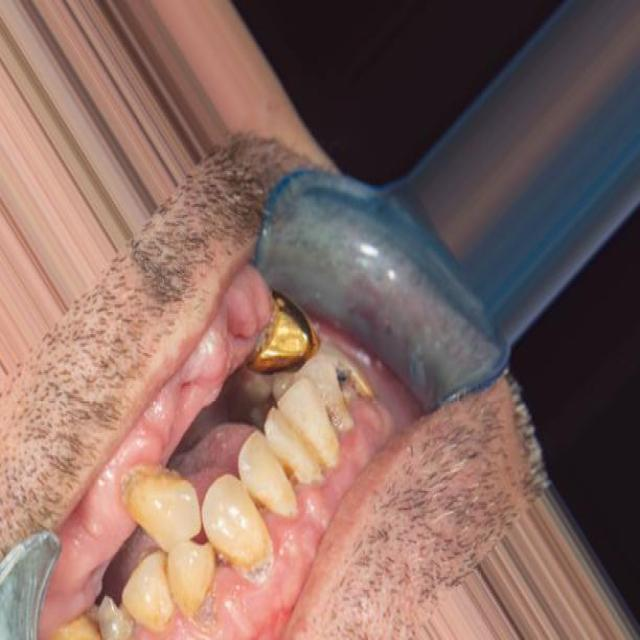caries: (185, 567, 227, 640), (331, 359, 372, 426), (95, 593, 142, 640)
